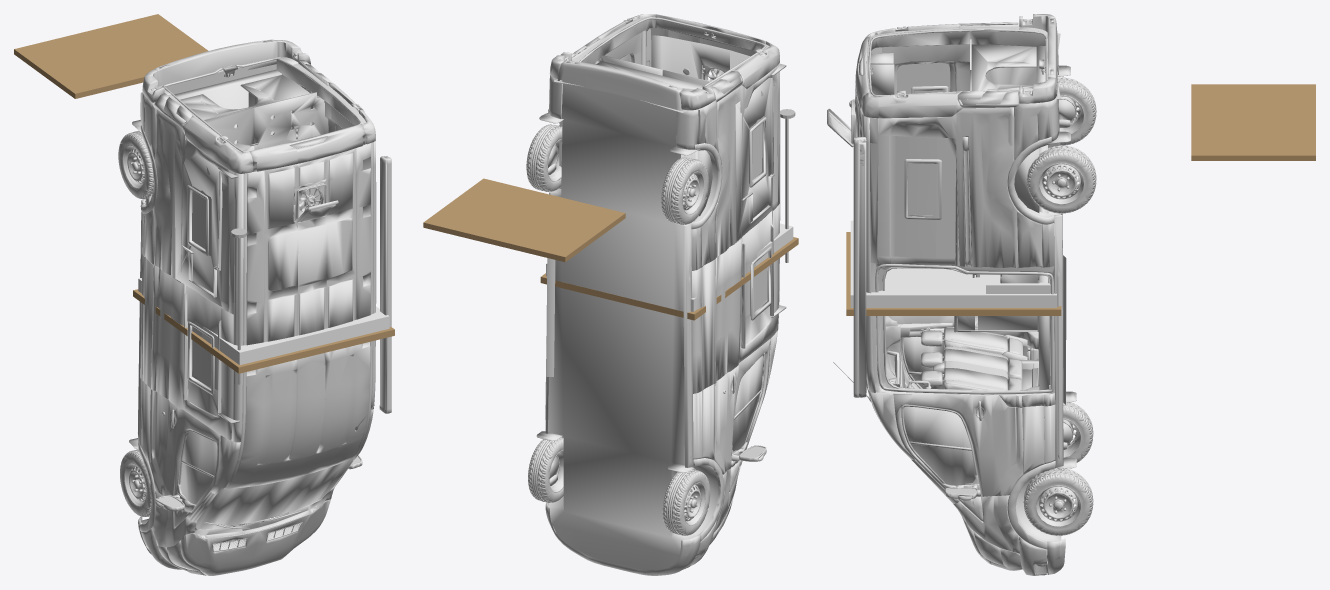
The model's file is van_exterior.glb.
3 renders of one model, left to right at view 1: azimuth 30°, elevation 25°; view 2: azimuth 150°, elevation 25°; view 3: azimuth 270°, elevation 25°, orthographic. The views are drawn at different scales.
Visible parts, largest first — view 1: van; view 2: van; view 3: van.
Boxes of the visible parts, bbox=[...] form: van: bbox=[14, 14, 394, 575]; van: bbox=[423, 14, 798, 575]; van: bbox=[827, 14, 1315, 575].
Size of the model in its own units: 248 by 596 by 515.
